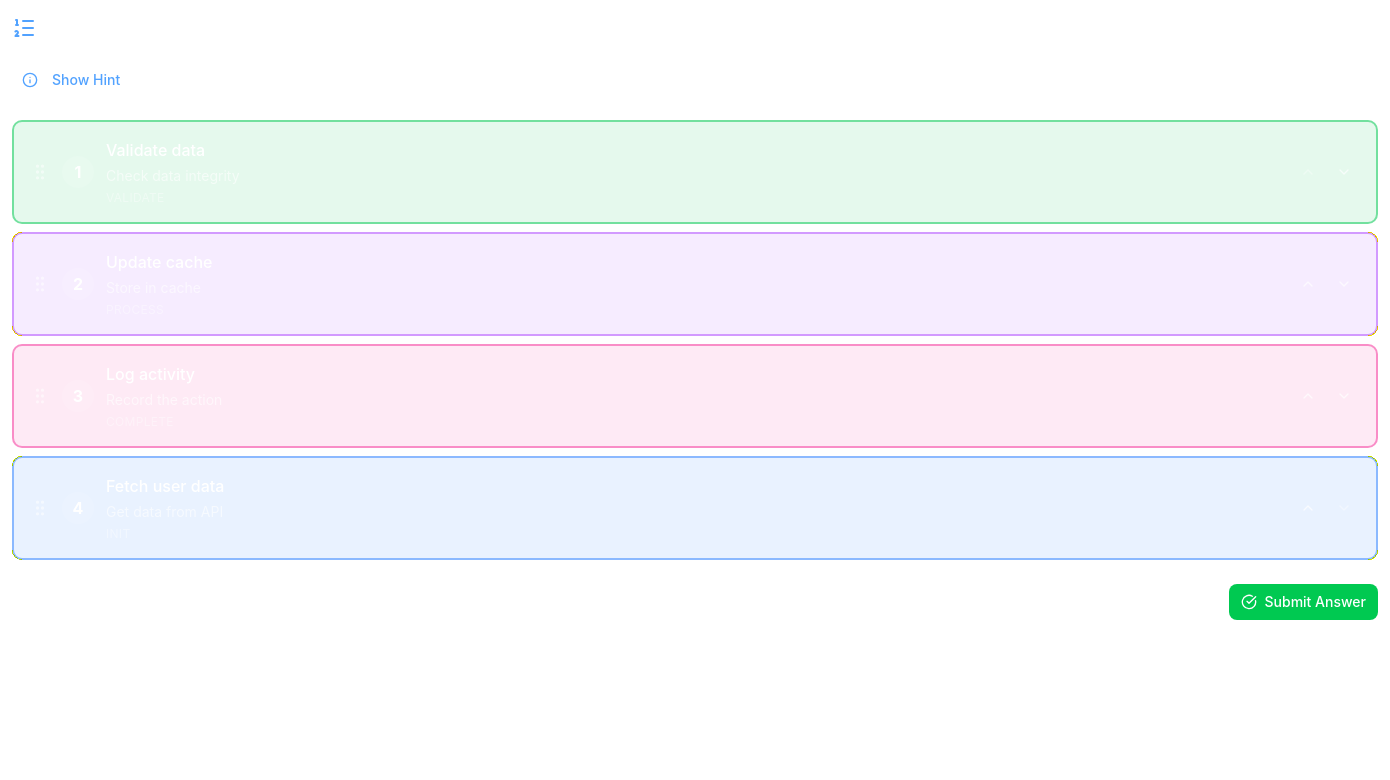
SequencePuzzle › hint functionality › hides hint after submission
The width and height of the screenshot is (1390, 780).
# Show hint first
Click the button "Show Hint" at (71, 80), box [12,64,130,96]
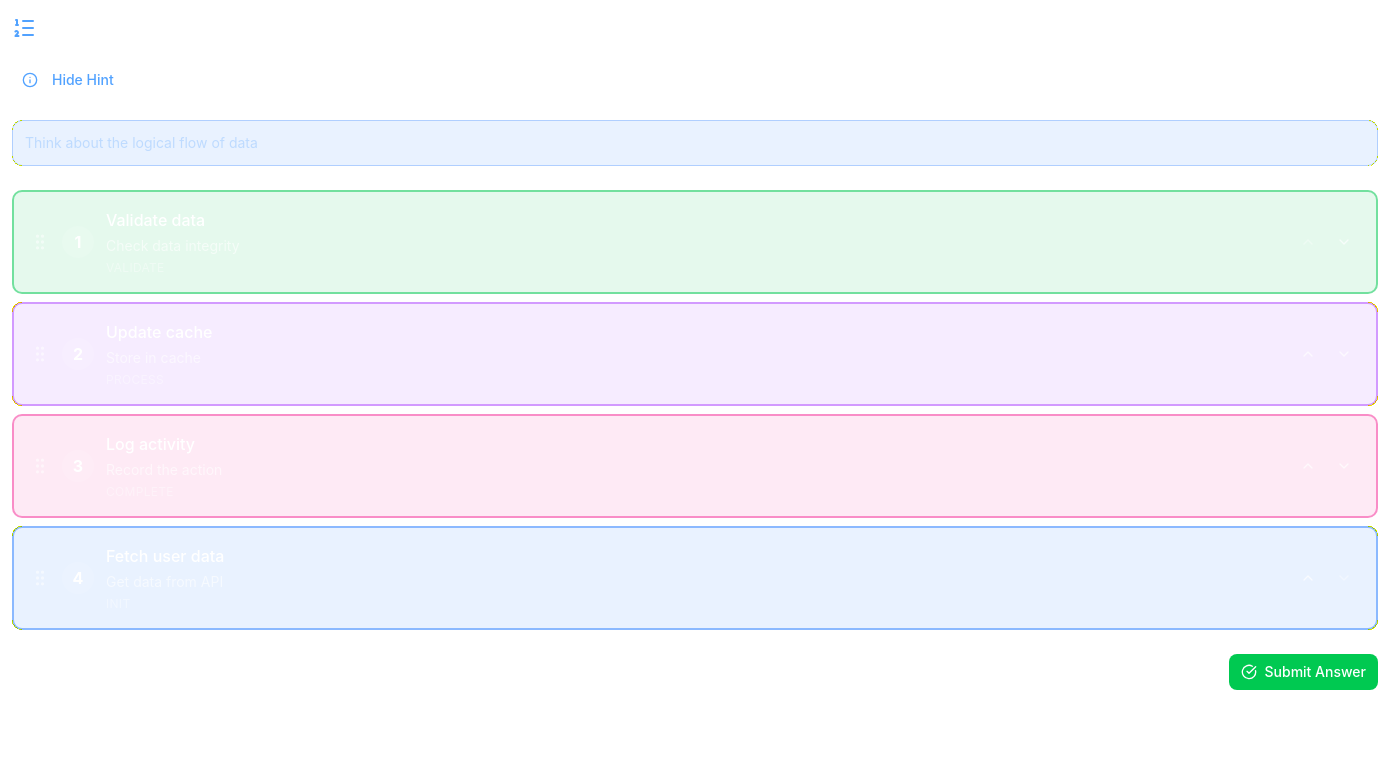
Result: the text "Think about the logical flow of data" is shown at [25,134,258,151]
Click the button with test id "submit-button" at (1303, 672), box [1228,654,1378,690]
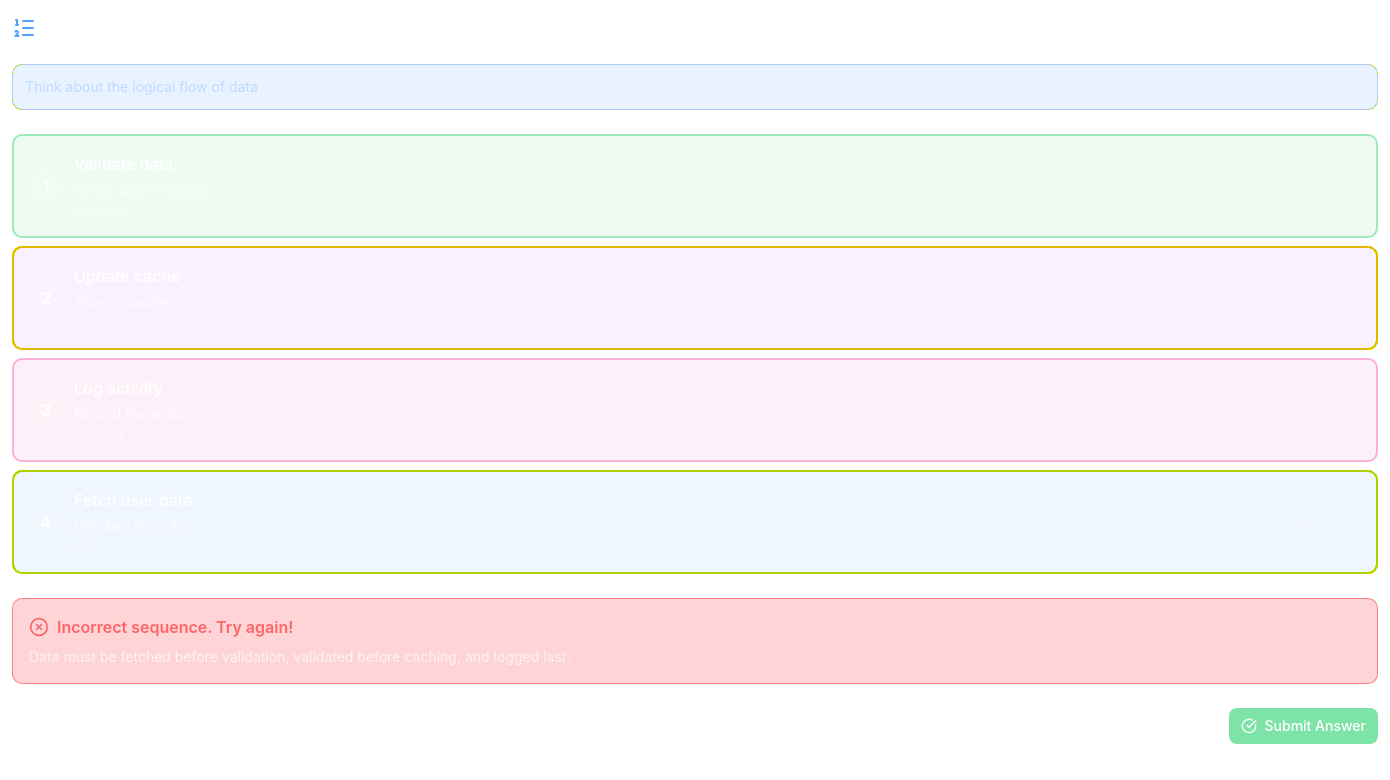
Expected: the button "Show Hint" is not shown
Result: the button "Hide Hint" is gone
